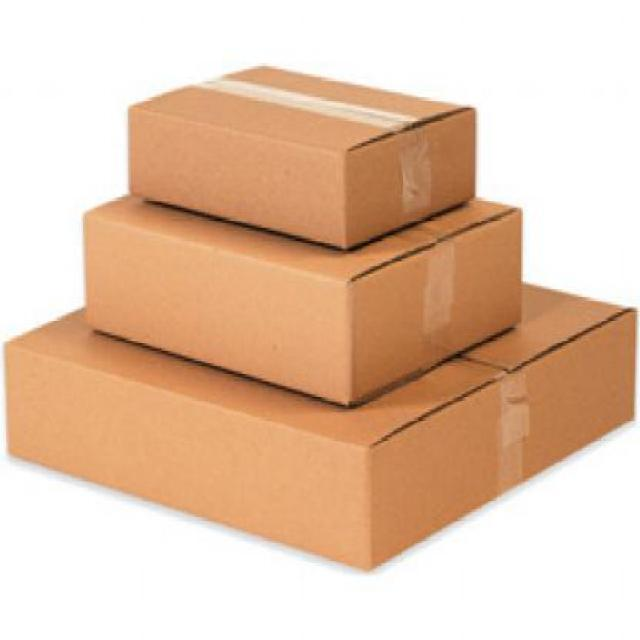box: (4, 278, 635, 574), (82, 188, 530, 412), (125, 63, 482, 248)
